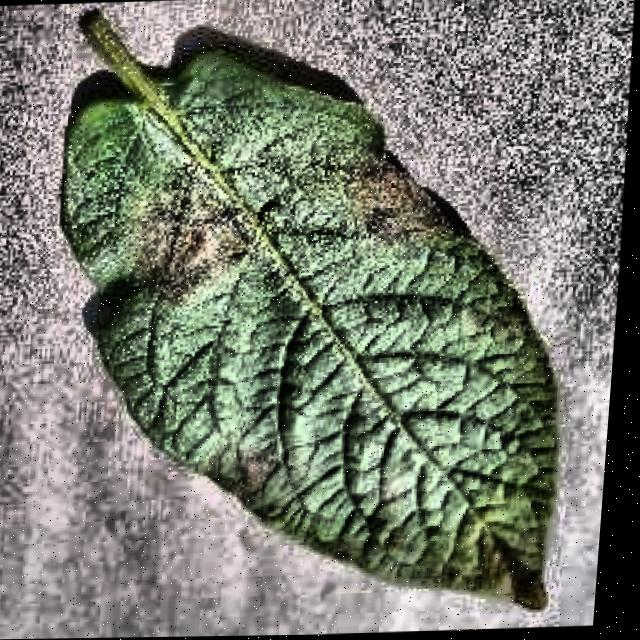Potato_leaf_late_blight: (38, 4, 605, 627)
